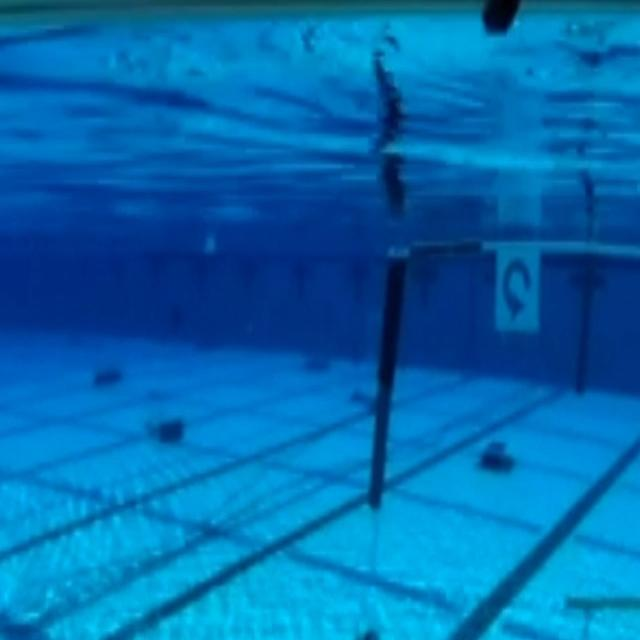Gate: (365, 233, 640, 566)
